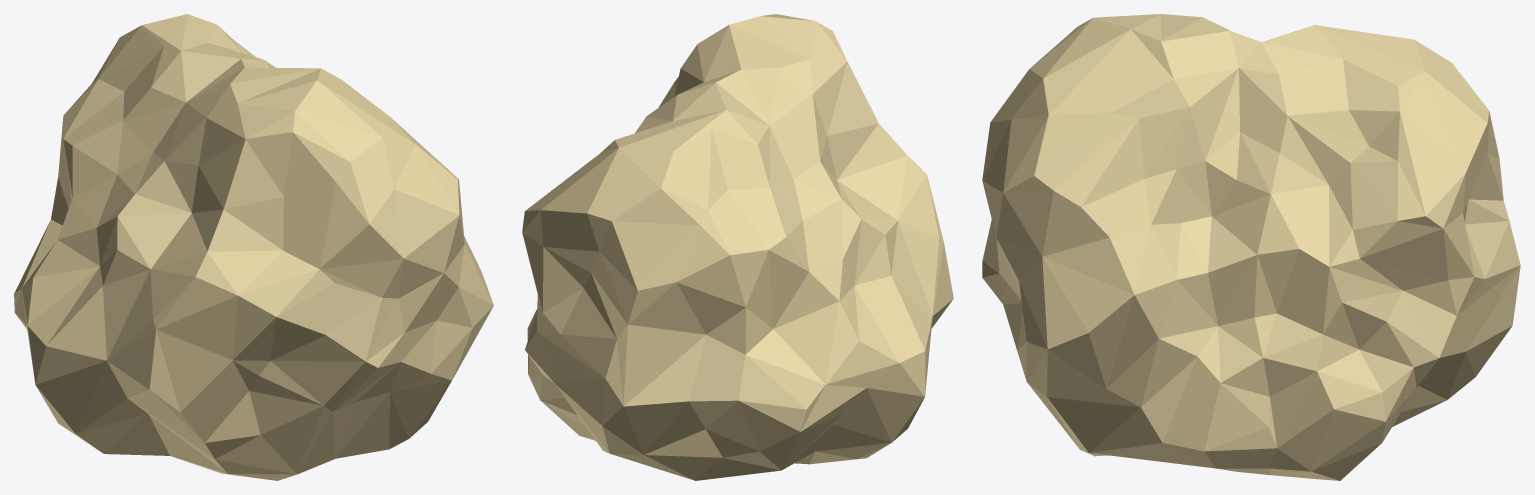
File: Asteroid (31).fbx
3 views of the same model, side by side, from view 1: azimuth 30°, elevation 25°; view 2: azimuth 150°, elevation 25°; view 3: azimuth 270°, elevation 25° (orthographic). The views are drawn at different scales.
Parts seen in each view (by area): view 1: Asteroid149; view 2: Asteroid149; view 3: Asteroid149.
Part boxes in pixels (x1=…): Asteroid149: x1=14, y1=14, x2=493, y2=480; Asteroid149: x1=522, y1=14, x2=953, y2=480; Asteroid149: x1=982, y1=14, x2=1520, y2=480.
Bounding box in the file's own units: 244 × 245 × 284.
